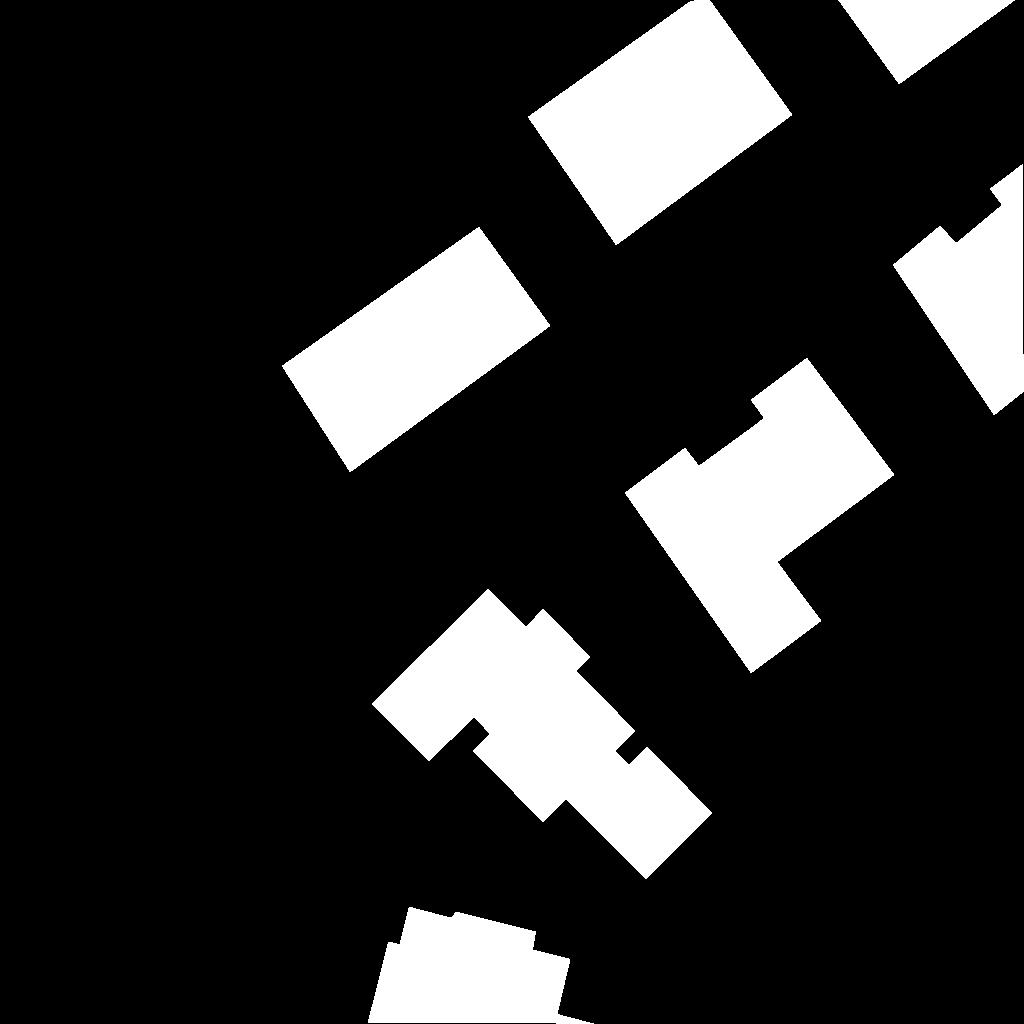building: (372, 589, 713, 880), (625, 358, 895, 674), (282, 227, 551, 473), (528, 0, 793, 246), (893, 164, 1024, 416), (368, 907, 595, 1024), (838, 0, 1016, 85)
